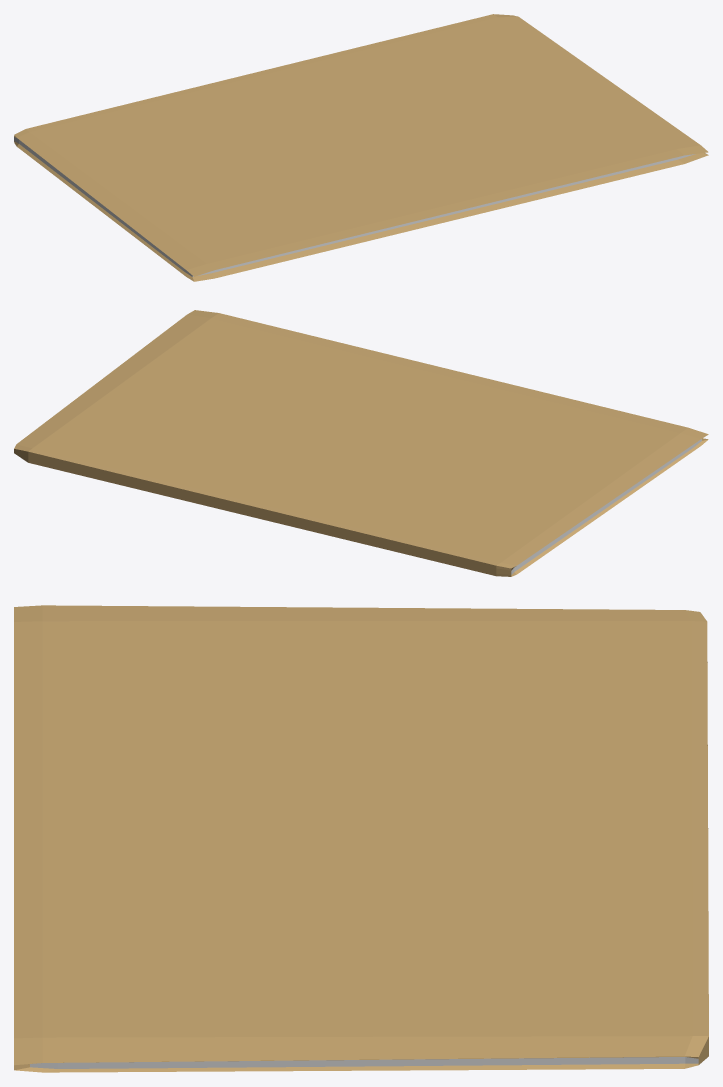
Rendered from GeoMyths_CaseFile.fbx.
The picture shows the model from 3 angles, top to bottom: view 1: azimuth 30°, elevation 25°; view 2: azimuth 150°, elevation 25°; view 3: azimuth 270°, elevation 25°; orthographic projection. The views are drawn at different scales.
Visible parts, largest first — view 1: Cube; view 2: Cube; view 3: Cube.
Part boxes in pixels (x1,y1,x2,y2): Cube: (14, 14, 708, 281); Cube: (14, 310, 708, 576); Cube: (14, 605, 708, 1072).
Bounding box in the file's own units: 28.33 × 0.5866 × 18.23.
